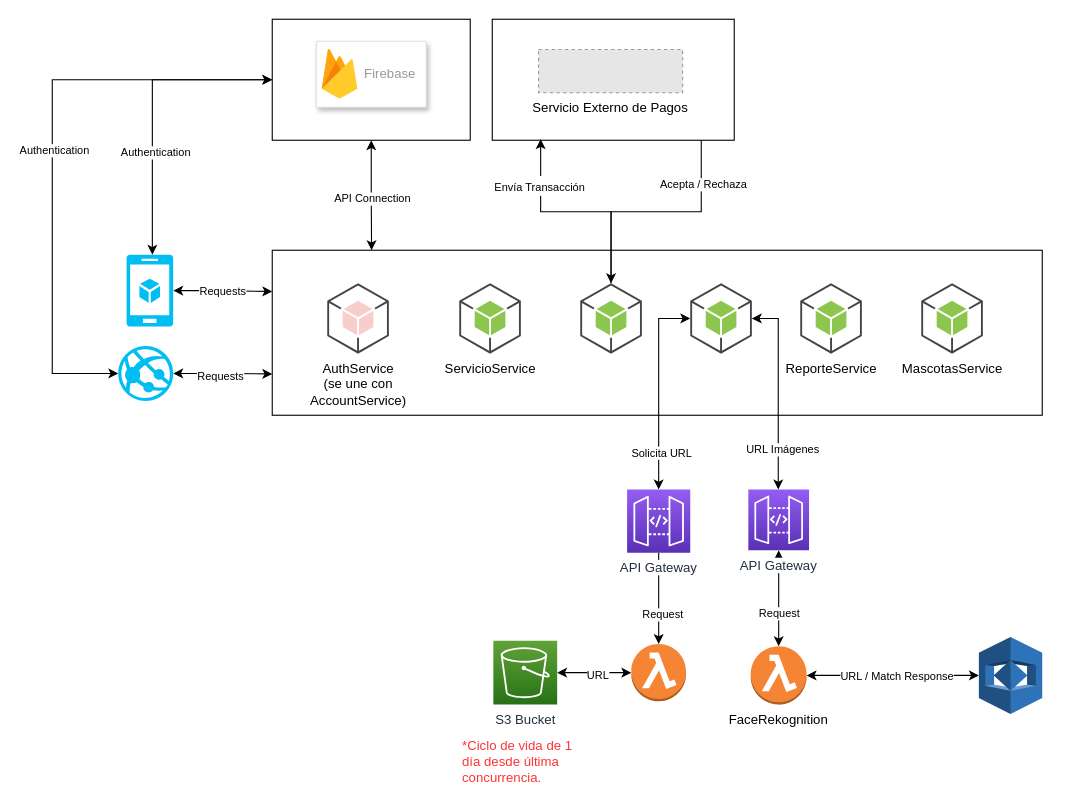
Some shapes in this 1079 by 804 pixel diagram are drawn without their labels. Grey dashed boxes stand in for pictures. The shapes that lost their labels are listed below. From the top down, each one's centre as x and y in pixels, then its label:
(x=610, y=318): PagoService
(x=720, y=318): AccountService
(x=658, y=672): Presign URL
(x=1010, y=675): Amazon FaceRekognition
